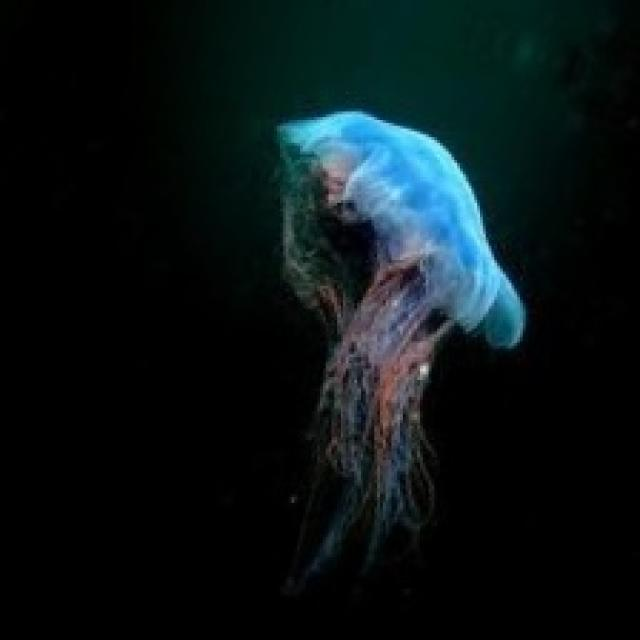Box-jellyfish: (268, 106, 526, 597)
